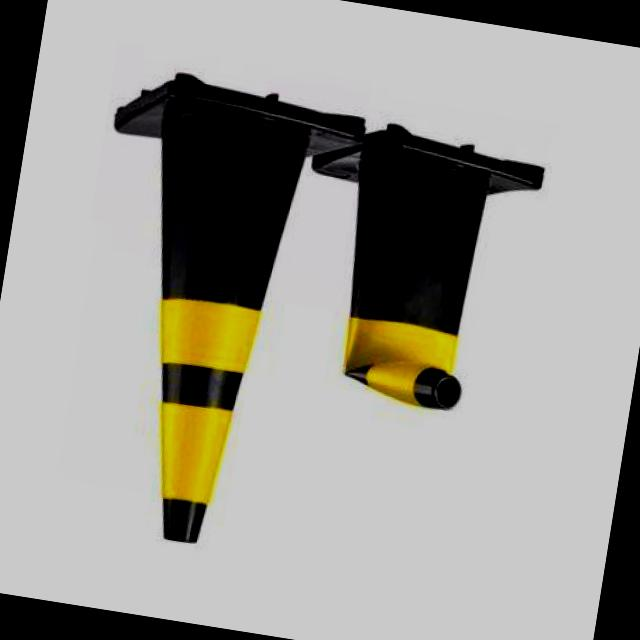cone: (71, 73, 347, 558)
